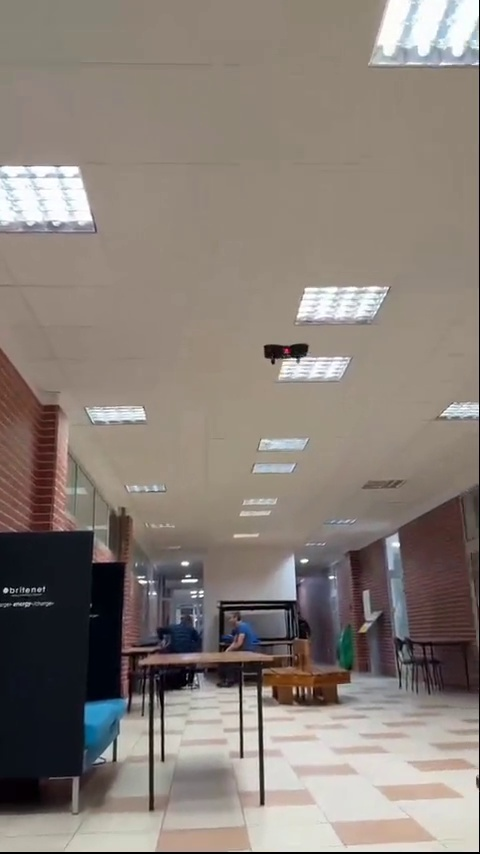drone: (267, 342, 305, 367)
no vest: (155, 614, 206, 656), (224, 604, 260, 647)
